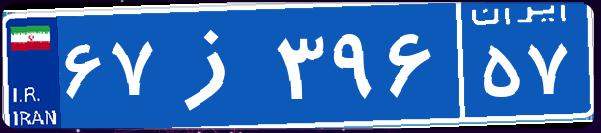3: (273, 28, 330, 110)
5: (475, 38, 525, 113)
6: (385, 28, 445, 110), (57, 26, 110, 107)
7: (110, 28, 158, 105), (525, 38, 570, 115)
9: (330, 28, 385, 110)
ز: (158, 15, 273, 115)
